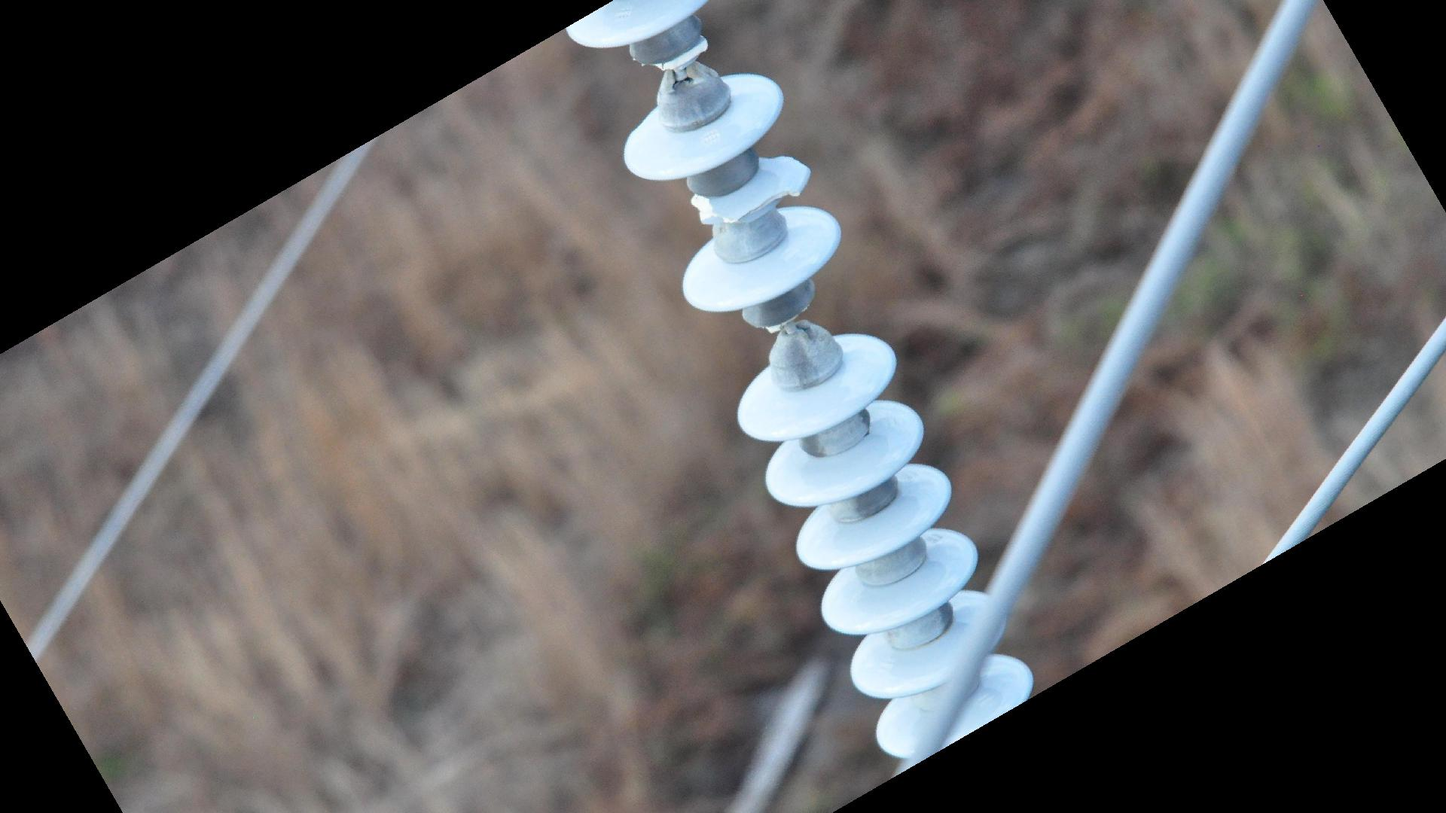insulator: (727, 329, 1043, 769), (621, 69, 847, 319), (557, 1, 708, 53)
insulator_breakage: (685, 149, 813, 232)
